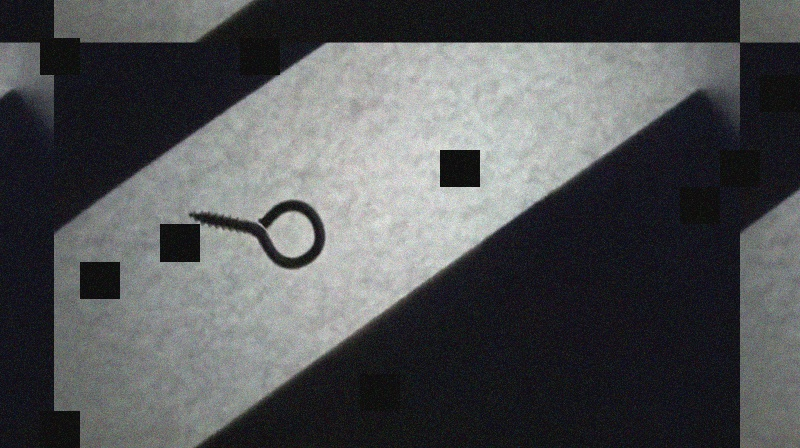O001: (185, 197, 330, 270)
